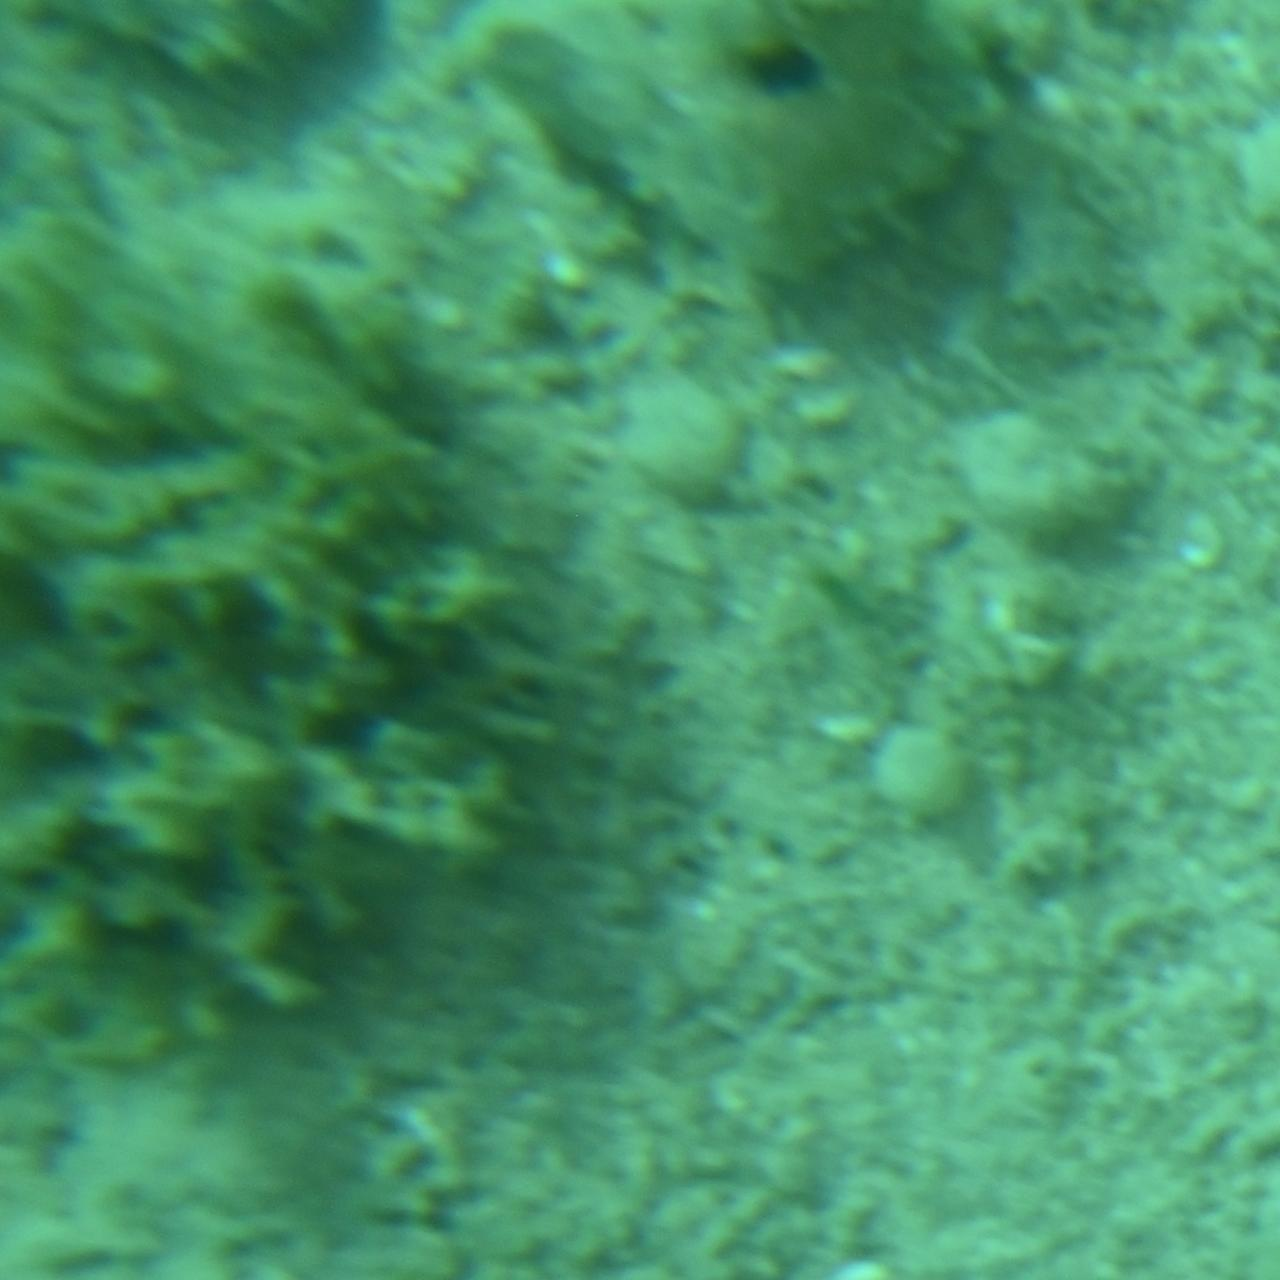Phaeophyceae -cfr Cystoseira-: (0, 145, 622, 1135)
